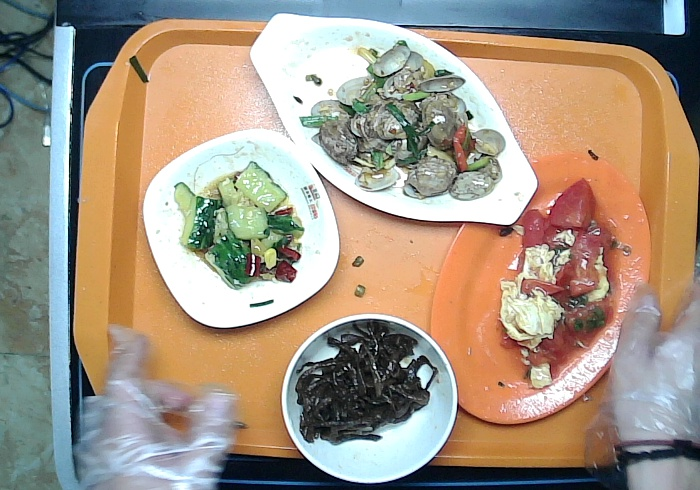NLDX-Bai_Se_Xiao_Fang_Die: (142, 128, 341, 329)
NLDX-Fan_Wan: (281, 314, 456, 483)
NLDX-Ju_Se_Pan: (430, 153, 651, 428)
NLDX-Yu_Pan: (249, 13, 539, 228)
